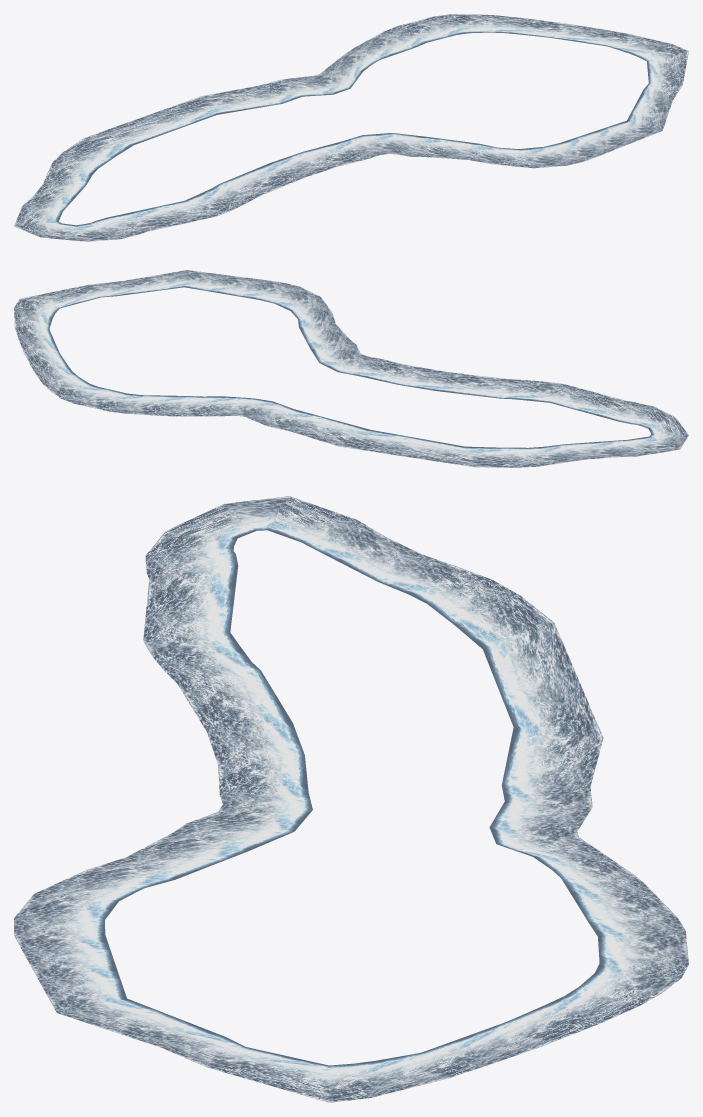
The model's file is snow_island_06_coast.fbx.
3 views of the same model, one above another, from view 1: azimuth 30°, elevation 25°; view 2: azimuth 150°, elevation 25°; view 3: azimuth 270°, elevation 25° (orthographic). The views are drawn at different scales.
Visible parts, largest first — view 1: snow_island_06_coast; view 2: snow_island_06_coast; view 3: snow_island_06_coast.
Boxes of the visible parts, x1,y1,x2,y2 form: snow_island_06_coast: [14, 14, 688, 241]; snow_island_06_coast: [14, 270, 688, 467]; snow_island_06_coast: [14, 496, 688, 1102].
Size of the model in its own units: 0.6663 by 0.00371 by 0.3133.
